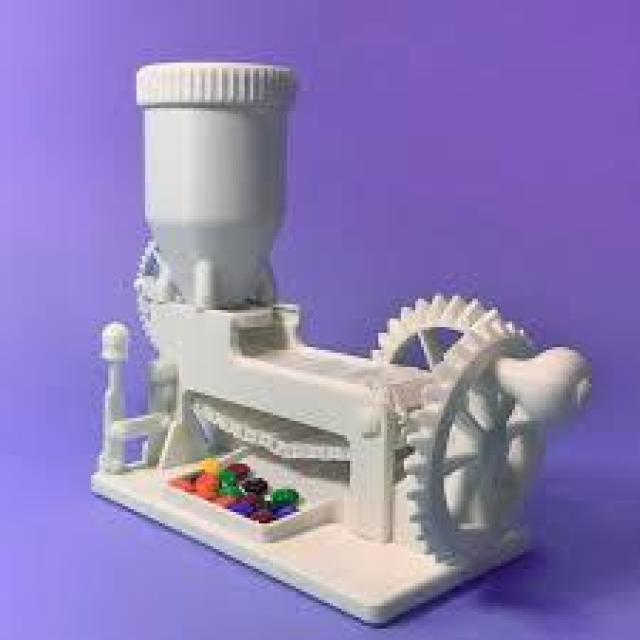Without deffect: (82, 48, 610, 613)
